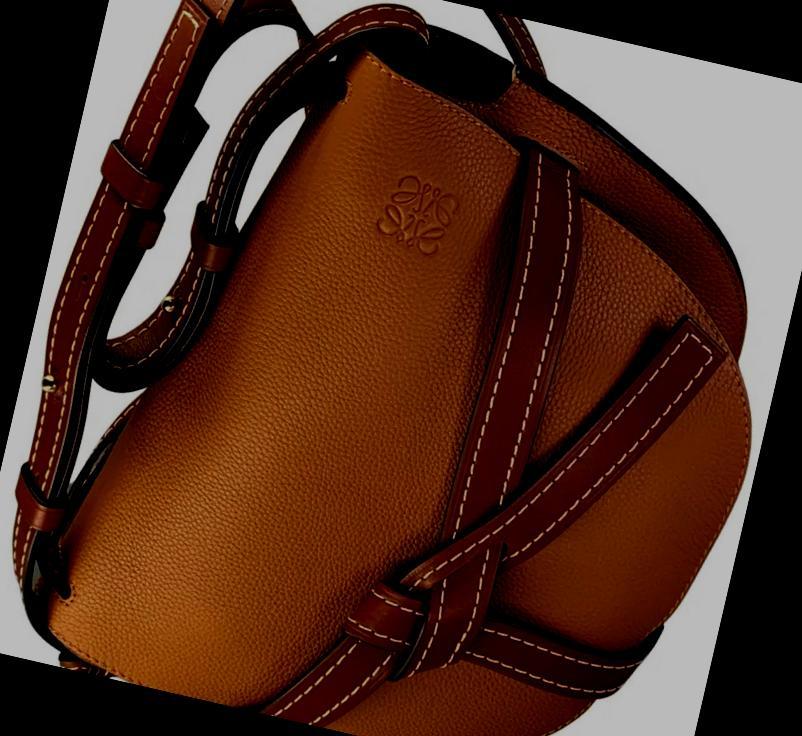LOEWE: (360, 146, 476, 267)
